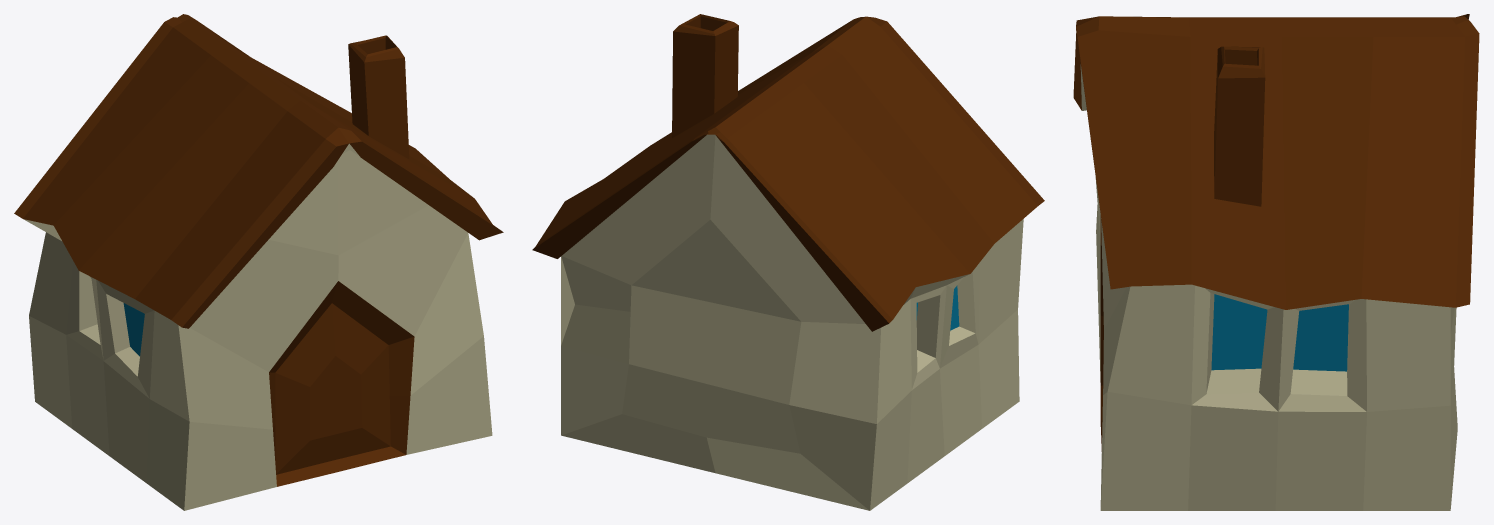
The model's file is House_V3.fbx.
3 views of the same model, side by side, from view 1: azimuth 30°, elevation 25°; view 2: azimuth 150°, elevation 25°; view 3: azimuth 270°, elevation 25° (orthographic). The views are drawn at different scales.
Parts seen in each view (by area): view 1: Cube; view 2: Cube; view 3: Cube.
Part boxes in pixels (x1,y1,x2,y2): Cube: (14, 14, 503, 510); Cube: (532, 14, 1044, 510); Cube: (1073, 14, 1479, 510).
Size of the model in its own units: 2.89 by 2.67 by 2.32.
